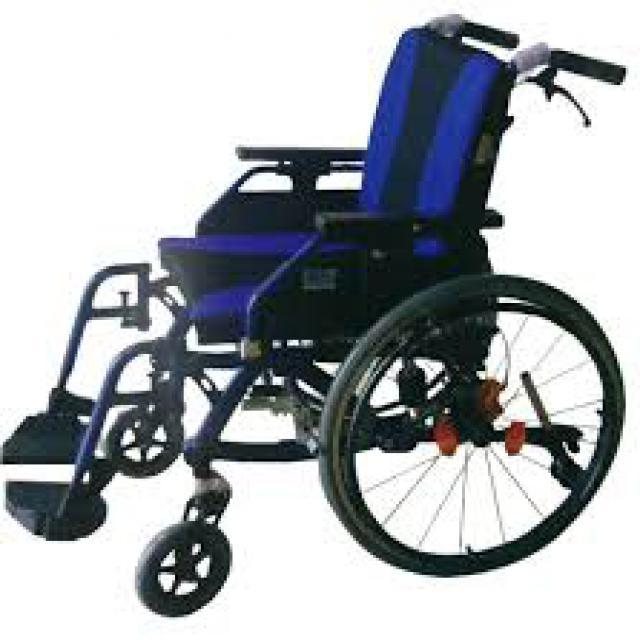wheelchair: (0, 5, 635, 638)
